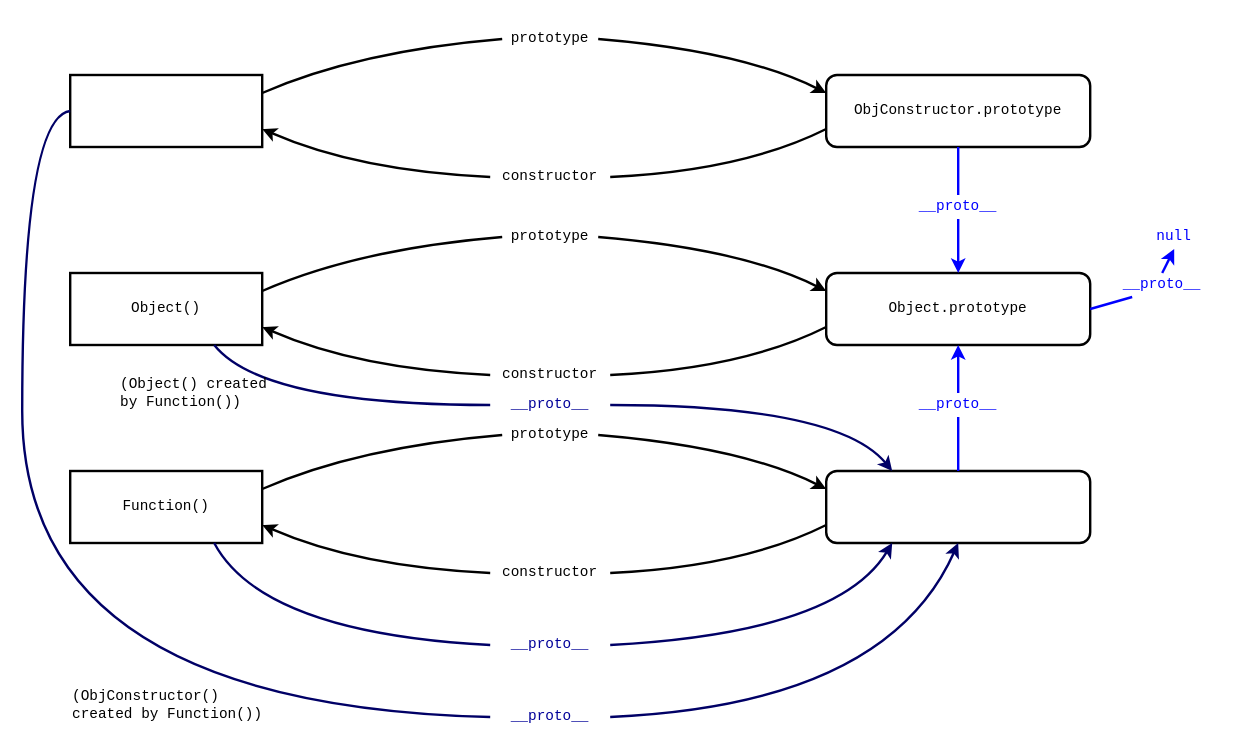
Image size: 1254x749. Some labels were removed from this diagram. The shapes that lost their labels are listed below. From the top down, each one's centre as x and y in pixels, then its label:
At point (165, 110): "ObjConstructor()".
At point (957, 506): "Function.prototype".
